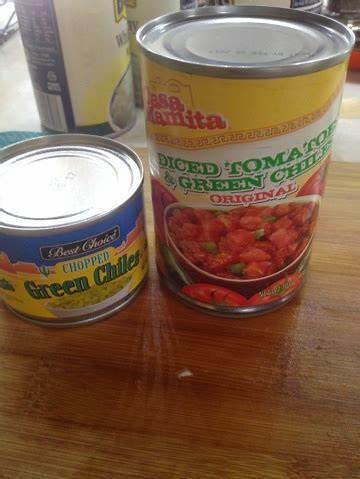metal: (138, 7, 354, 318), (1, 134, 147, 326)
